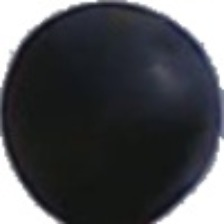grapes: (18, 51, 182, 208)
